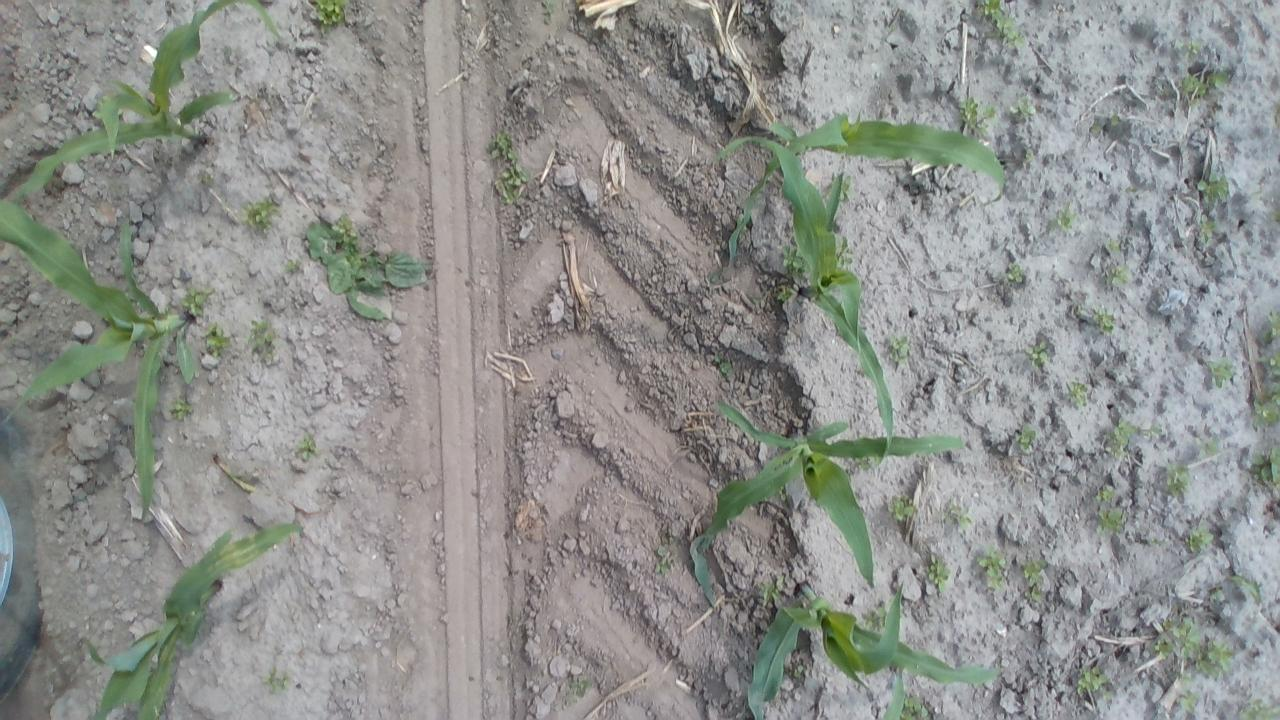Maize: (0, 188, 197, 520), (686, 395, 974, 615), (704, 105, 1013, 290), (0, 0, 277, 202), (711, 137, 895, 440), (85, 518, 308, 720), (746, 577, 1004, 713)
Weeds: (304, 210, 434, 320), (1150, 616, 1198, 662), (980, 0, 1024, 48), (1181, 66, 1228, 102), (242, 194, 280, 238), (494, 160, 530, 206), (976, 544, 1009, 594), (958, 94, 996, 137), (245, 318, 282, 362), (1072, 664, 1114, 702), (1102, 418, 1136, 458), (1249, 444, 1280, 487), (1198, 638, 1234, 674), (1195, 170, 1230, 206), (1021, 556, 1047, 604), (311, 0, 348, 33), (1252, 383, 1280, 426), (756, 572, 790, 606), (1204, 356, 1236, 392), (1182, 522, 1218, 554), (202, 320, 232, 358), (1162, 464, 1194, 498), (924, 556, 954, 592), (489, 130, 520, 164), (1229, 572, 1264, 602), (886, 494, 918, 526), (1092, 505, 1126, 535), (1047, 205, 1079, 236), (562, 668, 592, 700), (261, 662, 291, 694), (778, 244, 807, 276), (180, 285, 208, 318), (886, 330, 913, 364), (1235, 698, 1278, 719), (942, 504, 974, 532), (1092, 304, 1120, 336), (1090, 111, 1122, 139), (1064, 379, 1092, 410), (1026, 337, 1052, 370), (1014, 421, 1040, 453), (294, 431, 320, 463), (1175, 683, 1203, 712), (860, 604, 893, 628), (192, 166, 220, 194), (167, 394, 194, 423), (654, 543, 676, 577), (1194, 214, 1218, 244), (830, 172, 854, 202), (900, 696, 930, 719), (1009, 94, 1035, 120), (1262, 312, 1280, 348), (1104, 264, 1132, 286), (1257, 352, 1280, 378), (712, 351, 734, 378), (1002, 262, 1026, 286), (1199, 435, 1222, 459), (772, 284, 796, 306), (834, 235, 854, 261), (1066, 299, 1088, 320), (1102, 235, 1124, 256), (1182, 37, 1204, 57), (1096, 484, 1116, 503), (1145, 424, 1166, 441), (284, 256, 300, 274), (1022, 146, 1038, 163), (540, 1, 556, 18), (1210, 584, 1226, 601), (790, 662, 805, 680), (1271, 201, 1280, 228), (1124, 187, 1141, 195)
